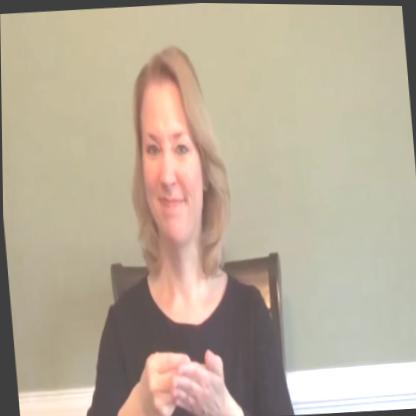Expensive: (129, 310, 233, 416)
